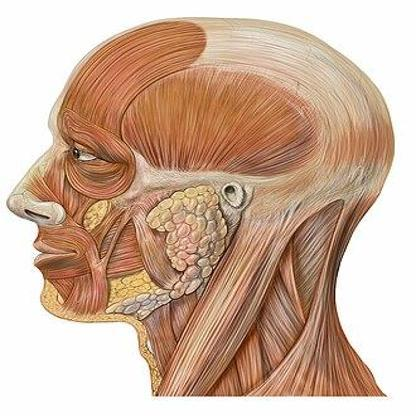person: (0, 14, 404, 400)
